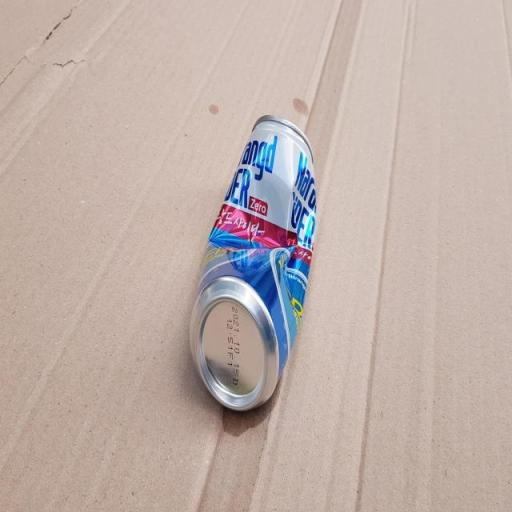metal: (170, 99, 337, 437)
